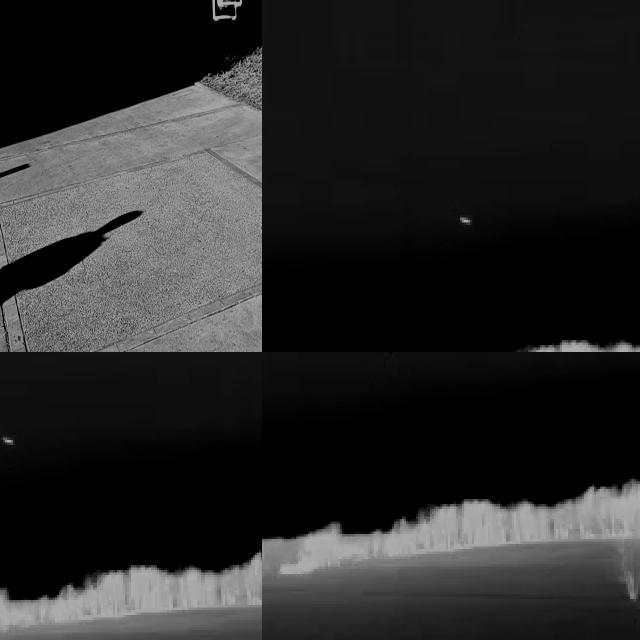1: (449, 208, 483, 240), (0, 428, 26, 461)
drone: (193, 0, 258, 25)
